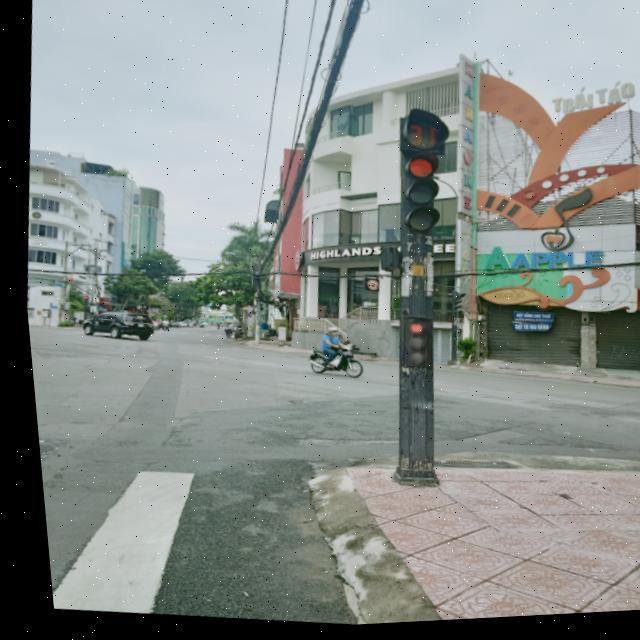Red: (389, 150, 445, 249), (389, 318, 429, 374)
